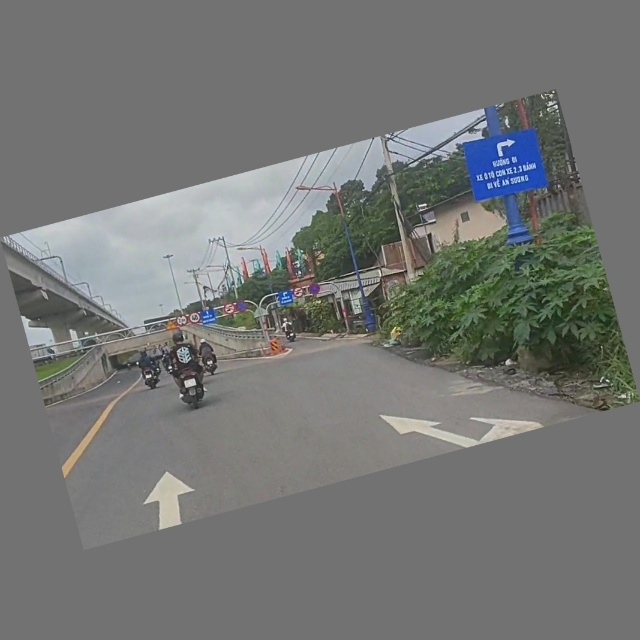P.107: (222, 303, 237, 316), (292, 286, 305, 299)
P.117*: (175, 313, 190, 329)
P.127*40: (187, 311, 202, 327)
P.130: (235, 300, 250, 315), (308, 283, 322, 297)
W.239b*: (163, 318, 178, 333)
